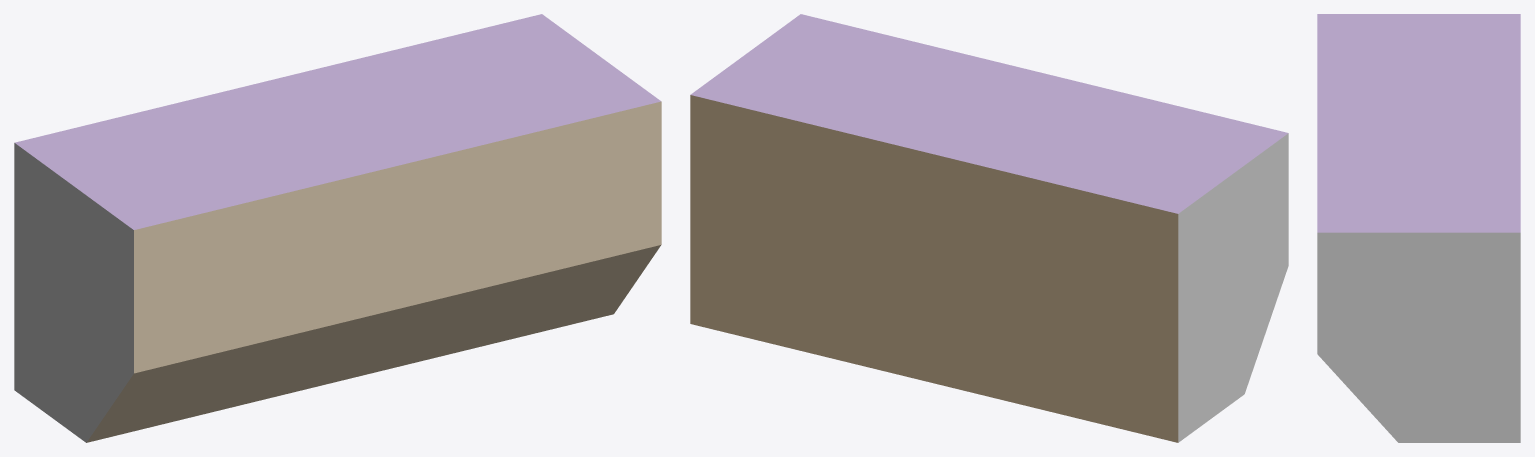
Rendered from concord.gltf.
3 views of the same model, side by side, from view 1: azimuth 30°, elevation 25°; view 2: azimuth 150°, elevation 25°; view 3: azimuth 270°, elevation 25° (orthographic). The views are drawn at different scales.
Visible parts, largest first — view 1: concord; view 2: concord; view 3: concord.
Part boxes in pixels (x1=…): concord: x1=14, y1=14, x2=661, y2=442; concord: x1=690, y1=14, x2=1288, y2=442; concord: x1=1317, y1=14, x2=1520, y2=442.
Size of the model in its own units: 12.43 by 5.58 by 4.88.
